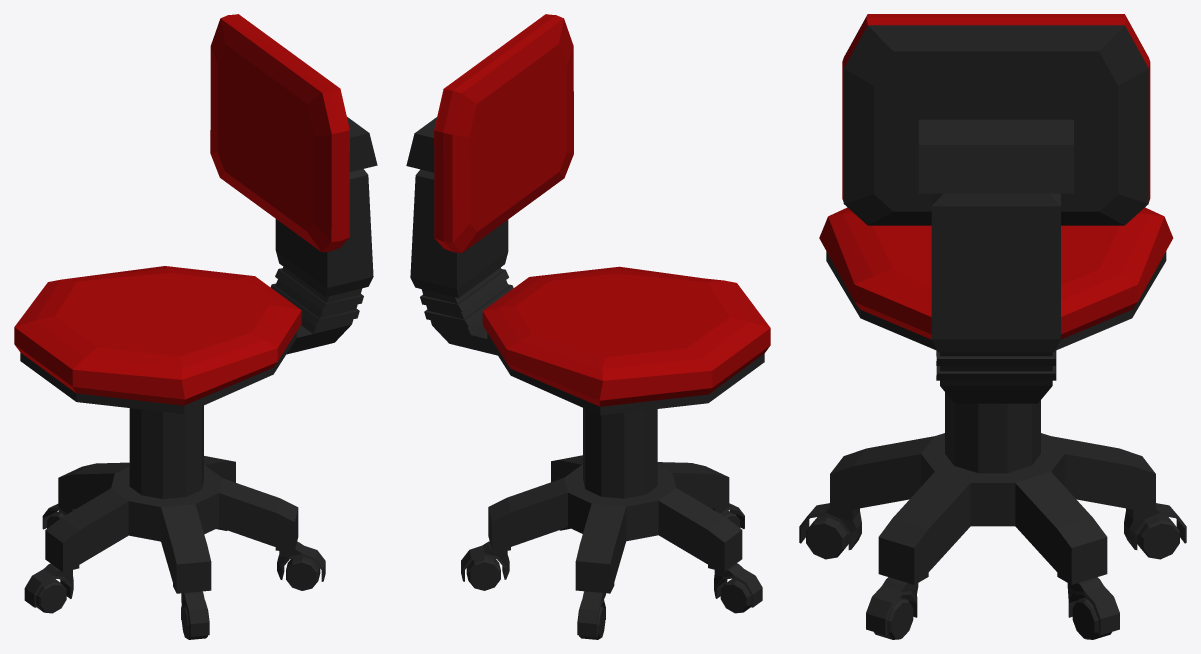
File: comChair 1.fbx
3 views of the same model, side by side, from view 1: azimuth 30°, elevation 25°; view 2: azimuth 150°, elevation 25°; view 3: azimuth 270°, elevation 25° (orthographic). The views are drawn at different scales.
Parts seen in each view (by area): view 1: seat, base, wheel1, wheel3, wheel2; view 2: seat, base, wheel1, wheel4, wheel5; view 3: seat, base, wheel4, wheel3, wheel5, wheel2.
Boxes of the visible parts, x1,y1,x2,y2 form: seat: (14,14,377,414); base: (45,405,298,593); wheel1: (24,563,73,613); wheel3: (277,541,325,590); wheel2: (181,591,209,639); seat: (406,14,770,415); base: (488,408,742,593); wheel1: (714,563,762,613); wheel4: (461,541,509,590); wheel5: (577,591,605,639); seat: (819,14,1173,403); base: (830,392,1155,584); wheel4: (1067,577,1119,639); wheel3: (866,577,918,639); wheel5: (1124,503,1186,559); wheel2: (799,503,861,559).
Bounding box in the file's own units: 1941 × 2900 × 1618.
